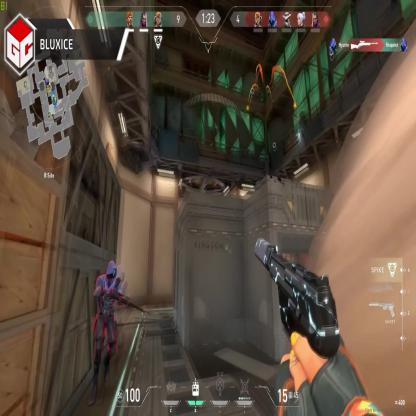enemy: (92, 260, 120, 406)
enemy_head: (107, 261, 117, 278)
